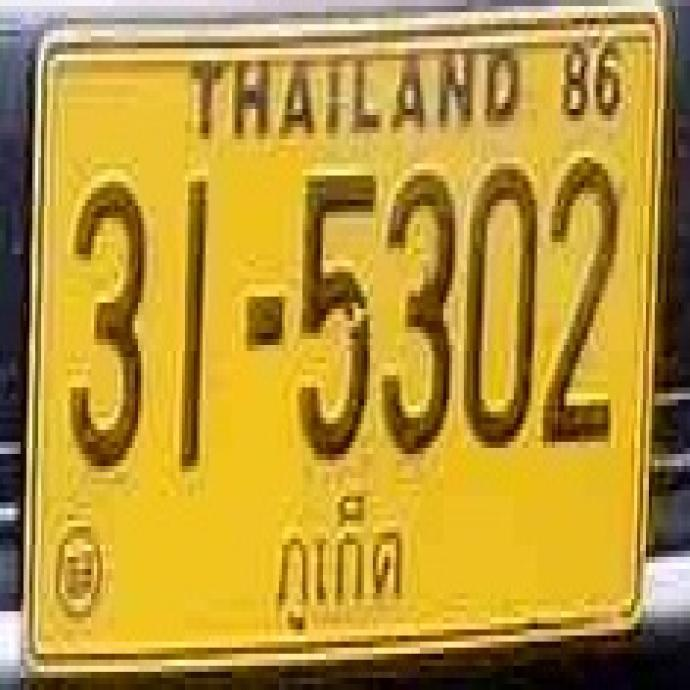0: (463, 162, 537, 443)
1: (180, 177, 203, 469)
2: (541, 153, 616, 441)
3: (67, 176, 143, 468), (380, 168, 453, 450)
5: (297, 168, 373, 457)
TAK: (266, 492, 414, 633)
